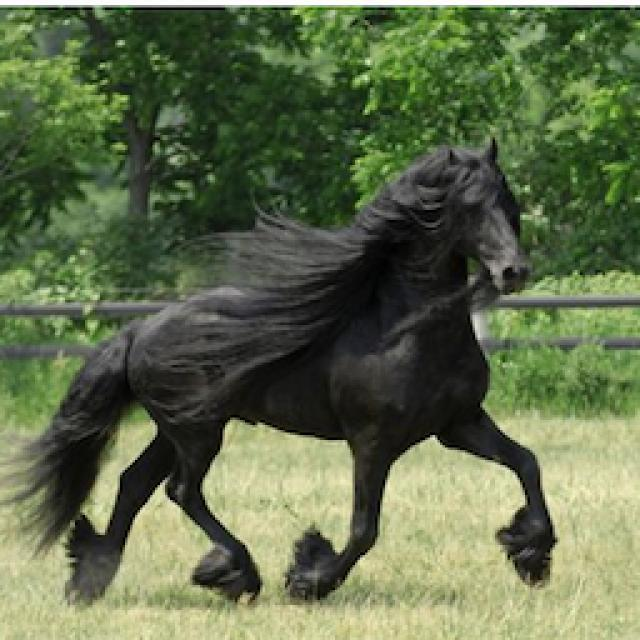Horse: (0, 130, 568, 610)
